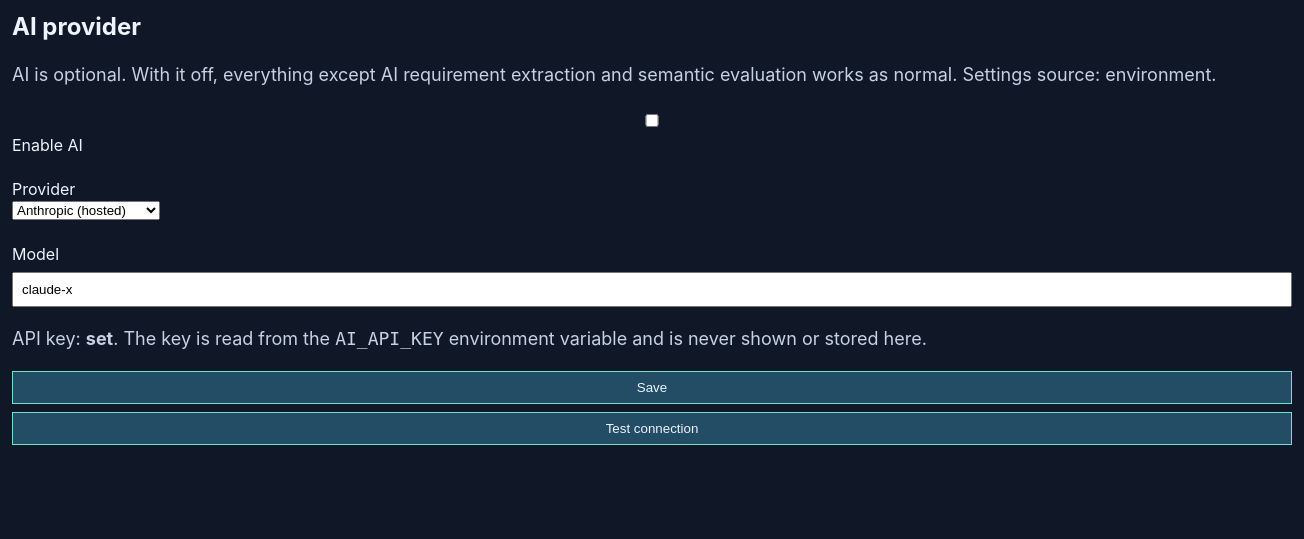
Test: AiSettings › saves the non-secret selection and reveals the endpoint field for local providers
The width and height of the screenshot is (1304, 539).
Expected: the text "set" is shown, [86, 328, 113, 349]
Select "Ollama (local)" in the dropdown labelled "Provider" at (86, 210), box [12, 201, 160, 220]
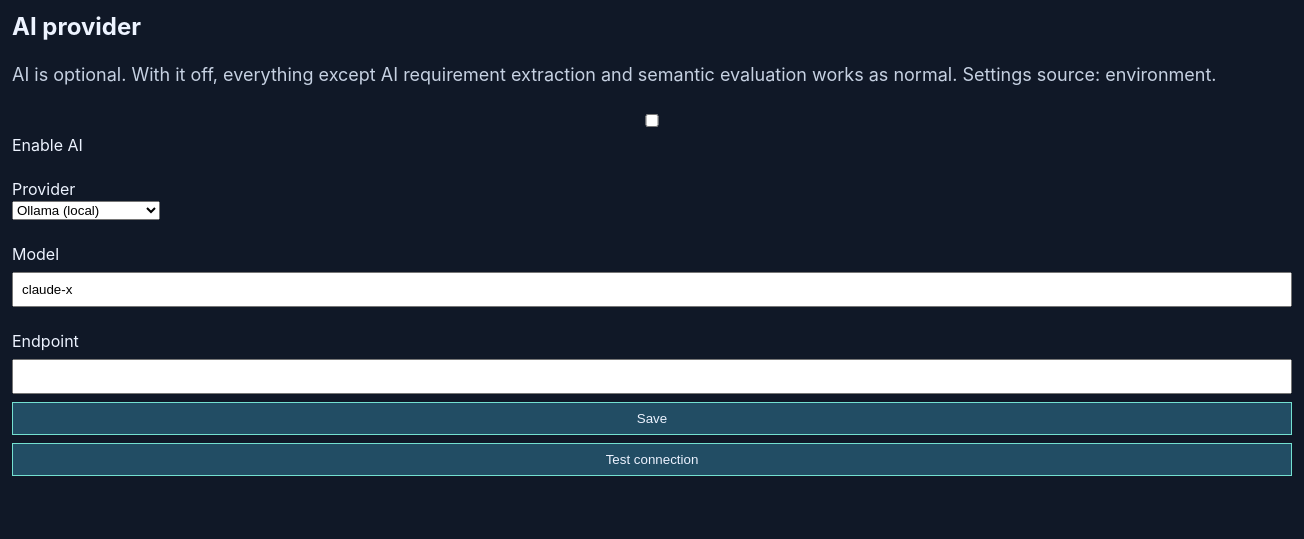
Type "http://gpu:11434/v1" into the field labelled "Endpoint" at (652, 376), box [12, 359, 1292, 394]
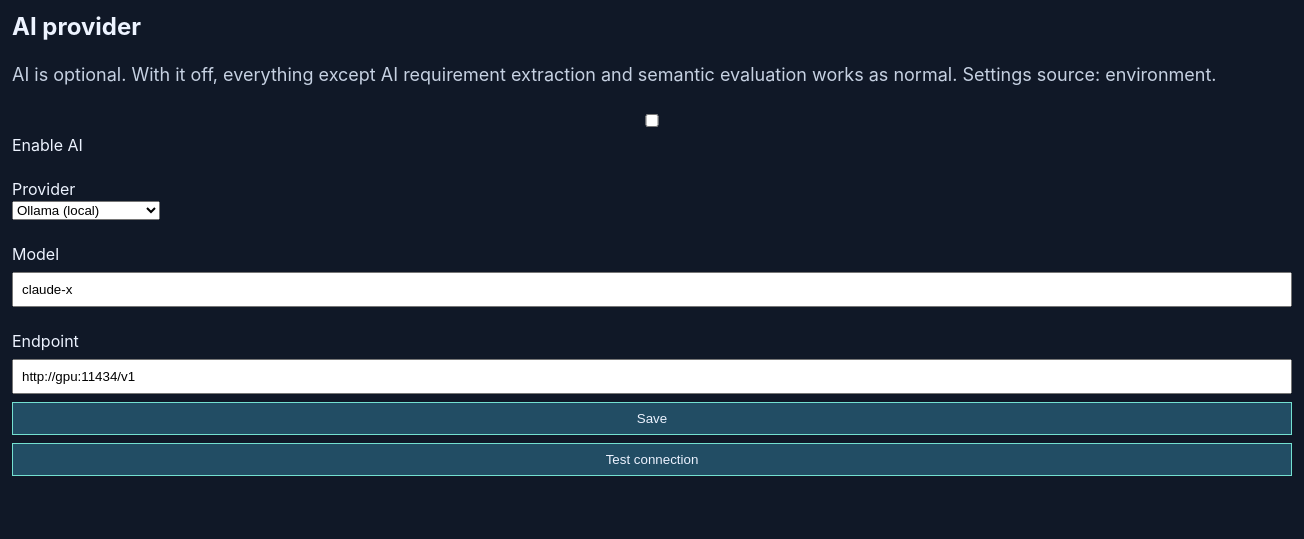
Click the checkbox labelled "Enable AI" at (652, 120), box [12, 114, 1292, 127]
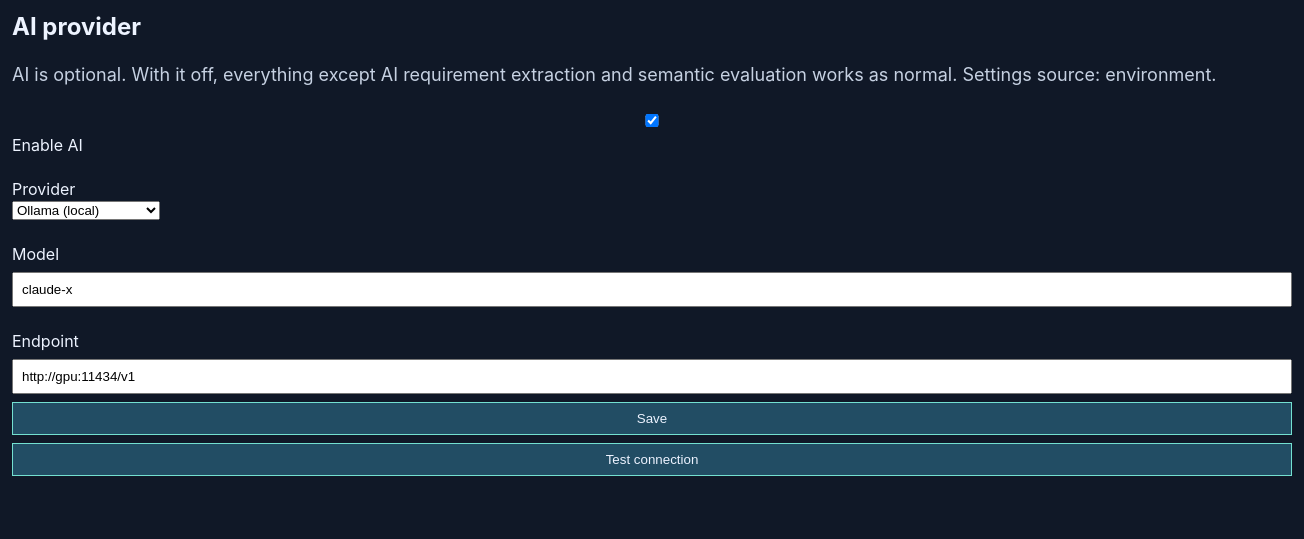
Click the button "Save" at (652, 418), box [12, 402, 1292, 435]
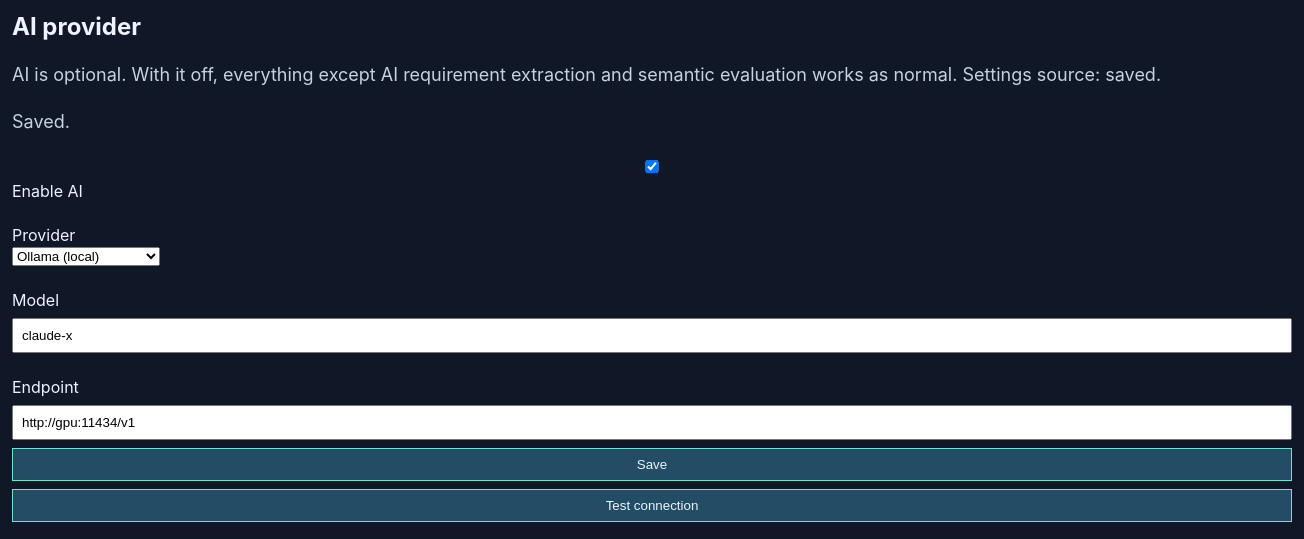
Result: the text "Saved." is shown at [12, 111, 70, 132]
